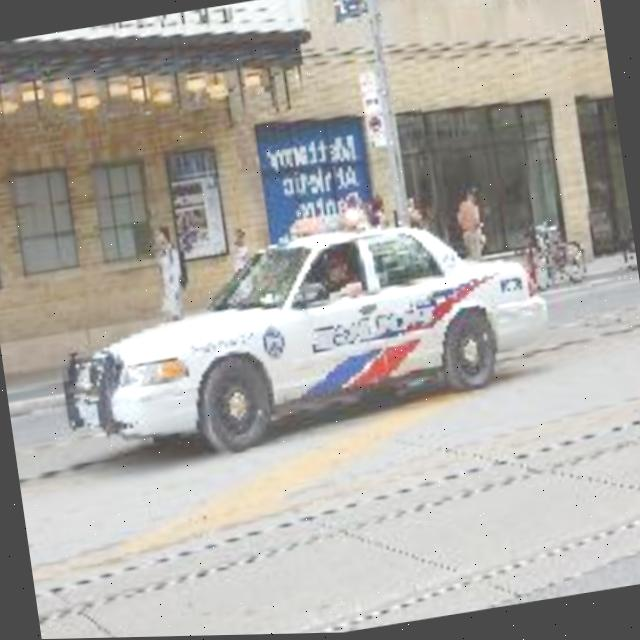emergency: (42, 177, 580, 497)
